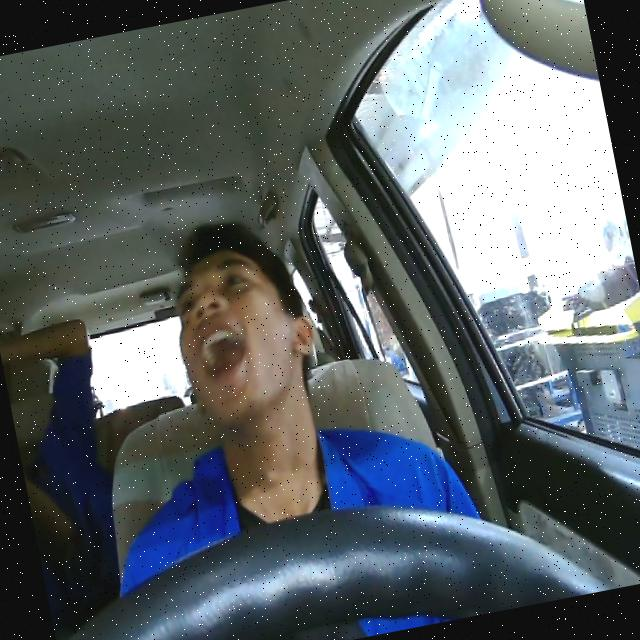yarning: (162, 235, 328, 430)
